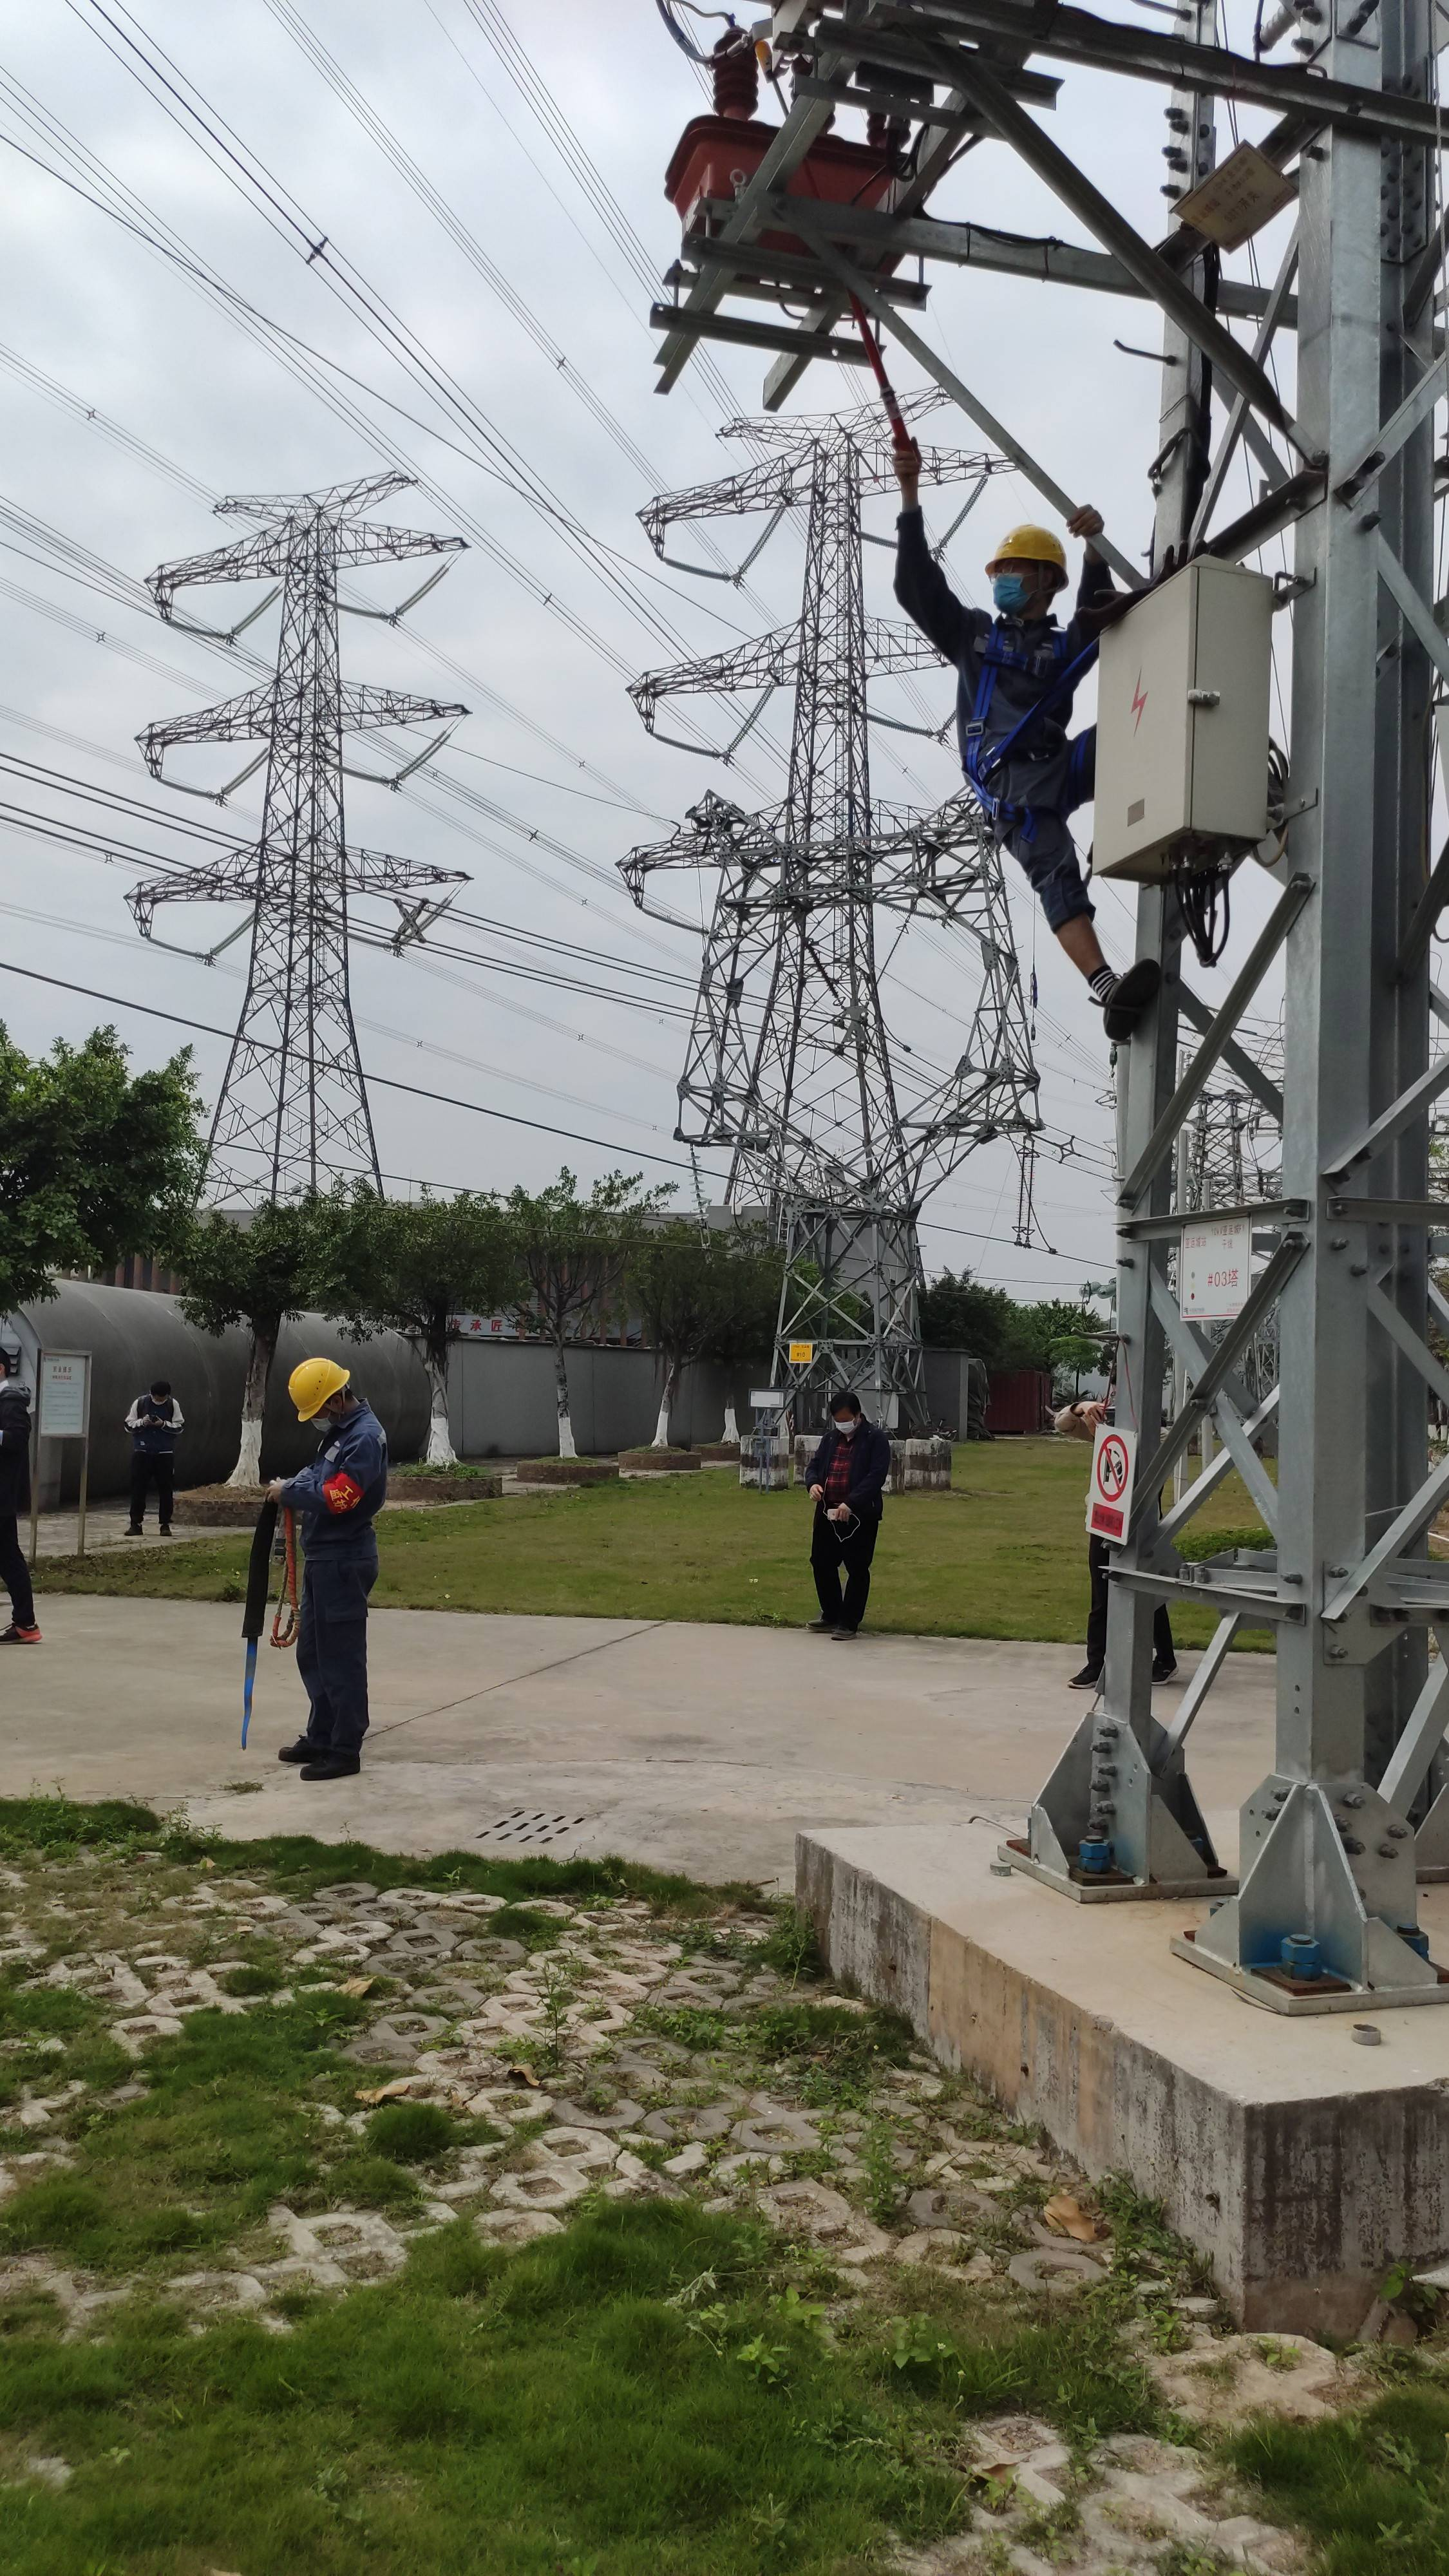downcloth: (814, 1525, 878, 1626), (133, 1460, 177, 1530)
downsuit: (980, 754, 1113, 932), (295, 1560, 379, 1752)
upcloth: (803, 1426, 890, 1520), (126, 1396, 186, 1453)
upsuit: (897, 534, 1108, 755), (283, 1419, 387, 1557)
wrongbottom: (1042, 890, 1123, 1003)
